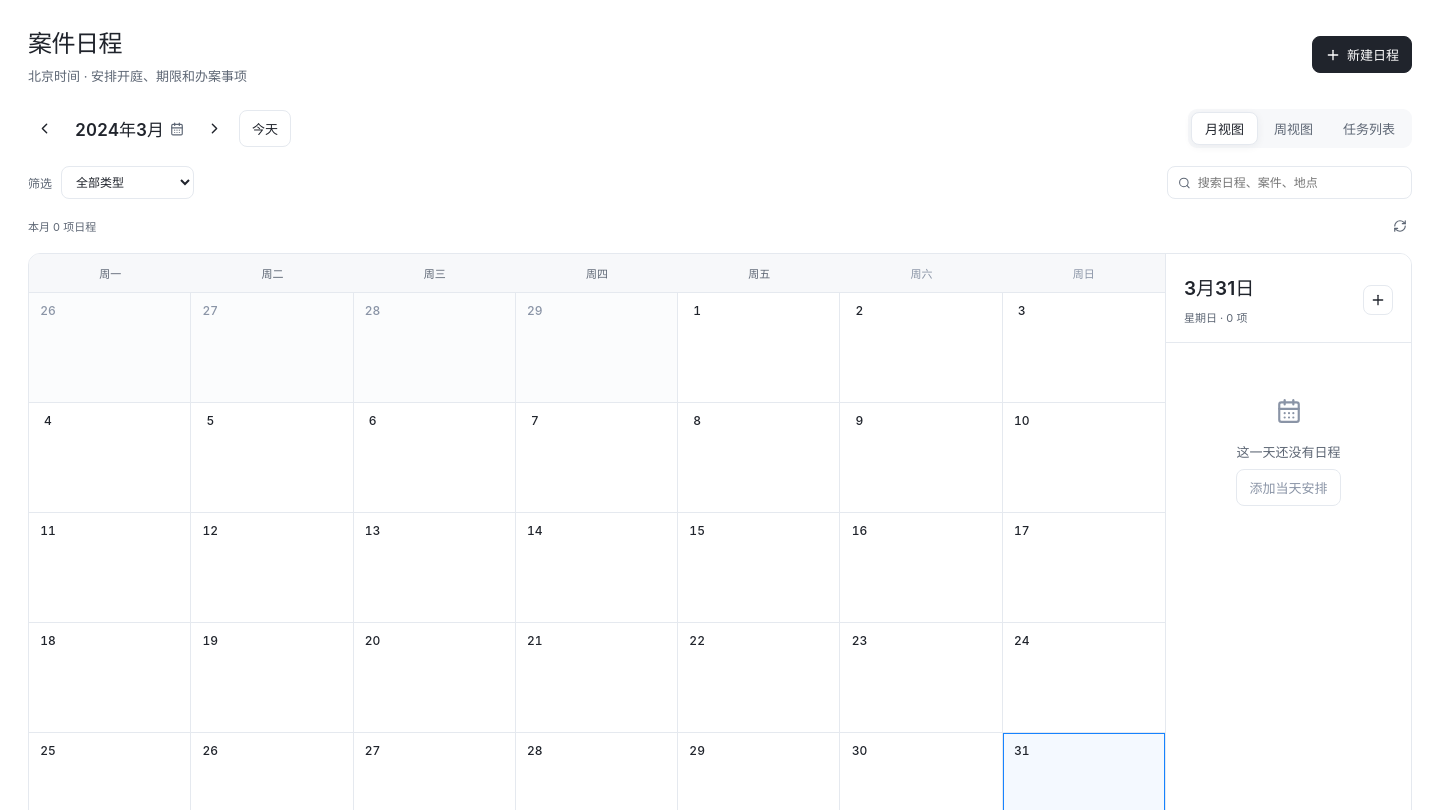
Test case: manual creation persists the selected date and does not require a case
Click the button "新建日程". click: [1362, 54]
box: top-left (1312, 36), bottom-right (1412, 73)
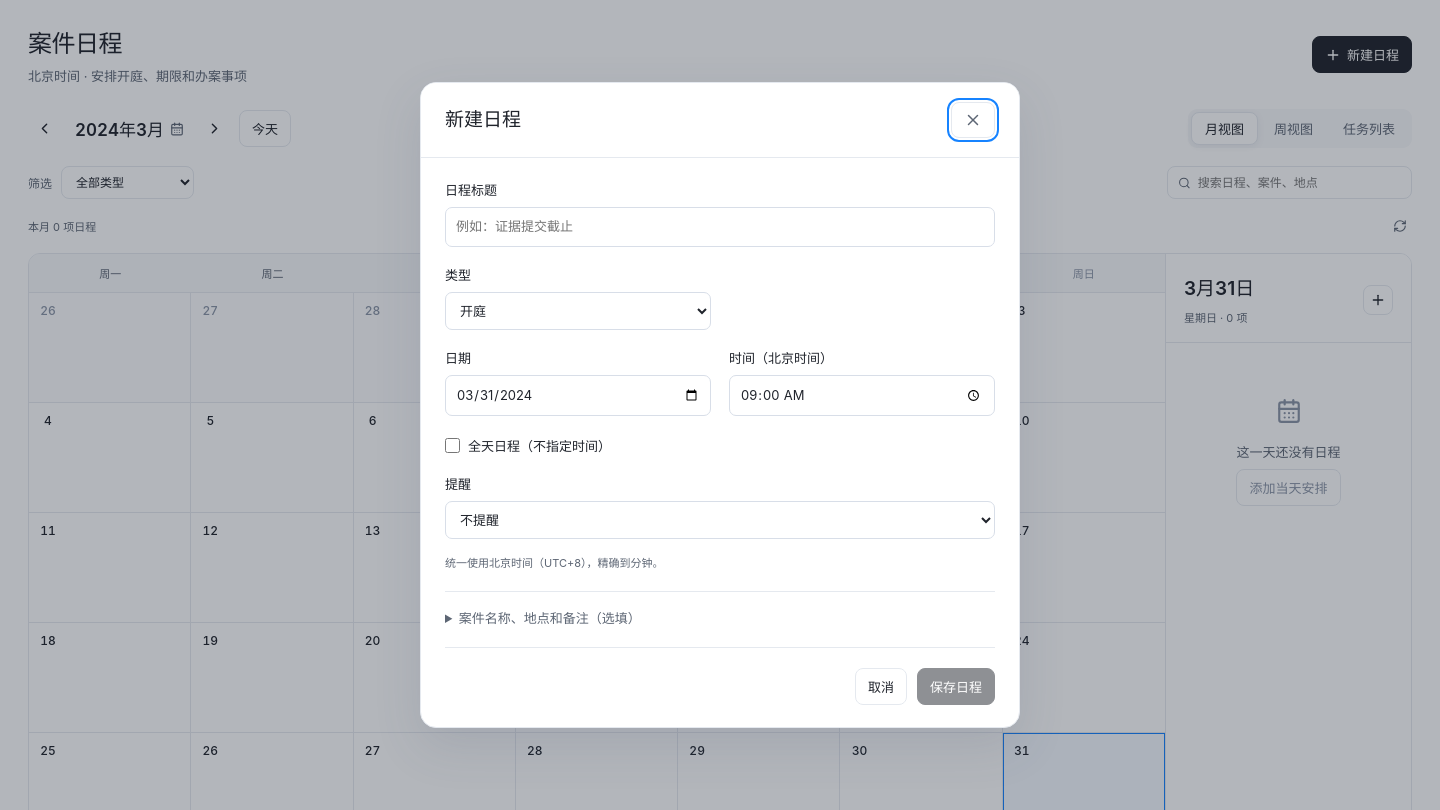
Type "  虚构材料截止  " into the field labelled "日程标题". click: [720, 227]
box: top-left (445, 207), bottom-right (995, 247)
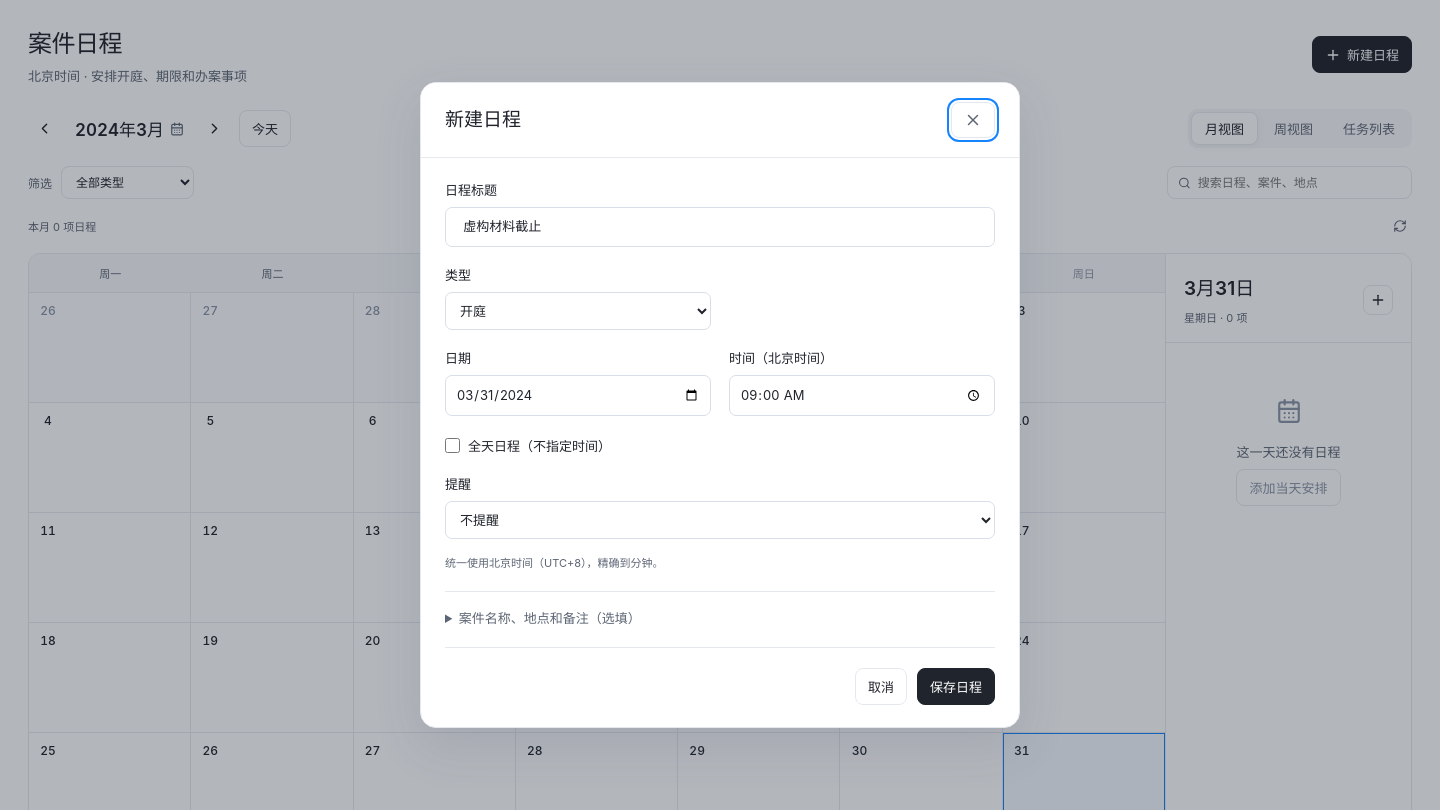
Click the button "保存日程". click: [956, 686]
box: top-left (917, 668), bottom-right (995, 705)
(page scrolled)
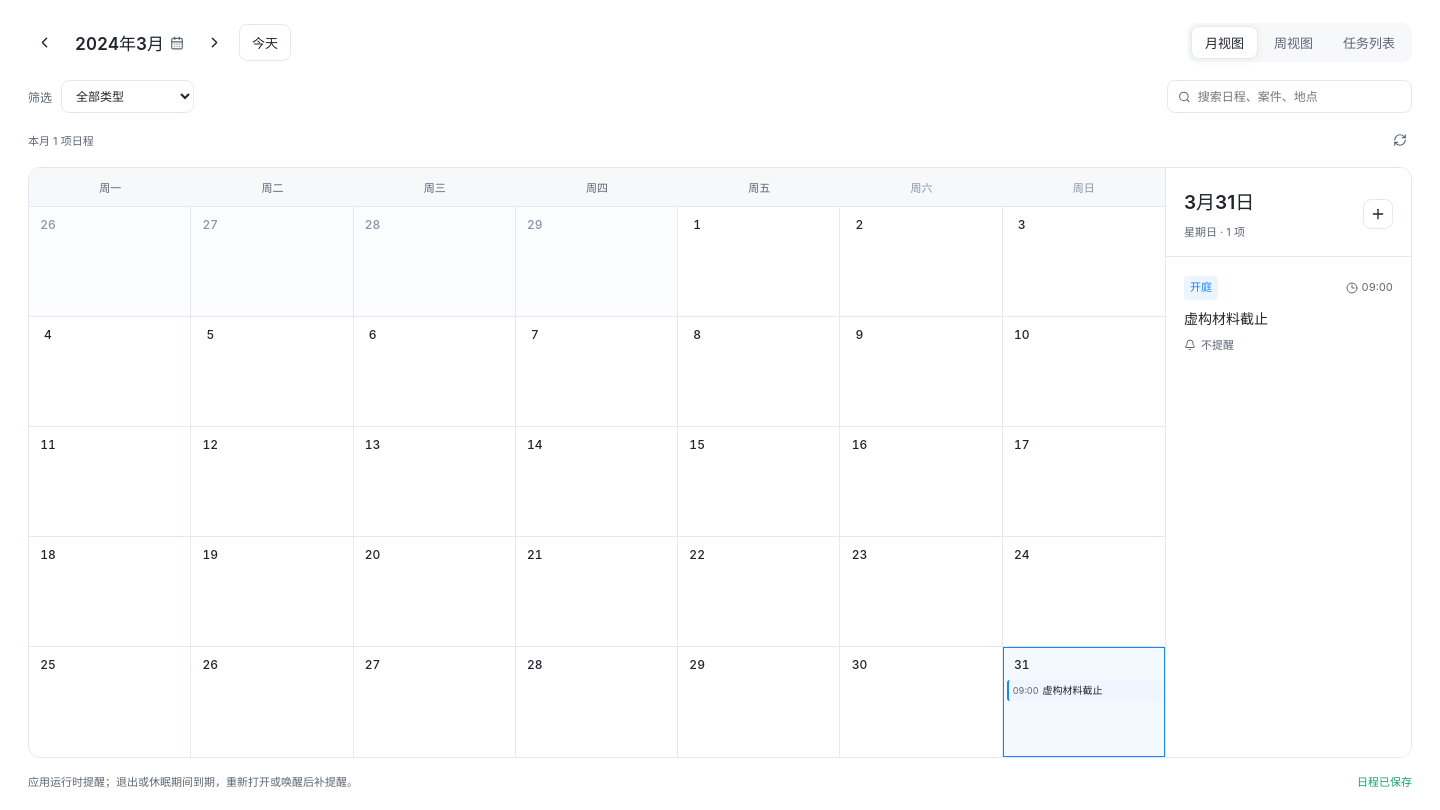
Check: the dialog is gone
Check: the button "开庭 09:00 虚构材料截止 不提醒" is shown, box top-left (1176, 261), bottom-right (1401, 369)
Check: the text "日程已保存" is shown, box top-left (1357, 773), bottom-right (1412, 792)
